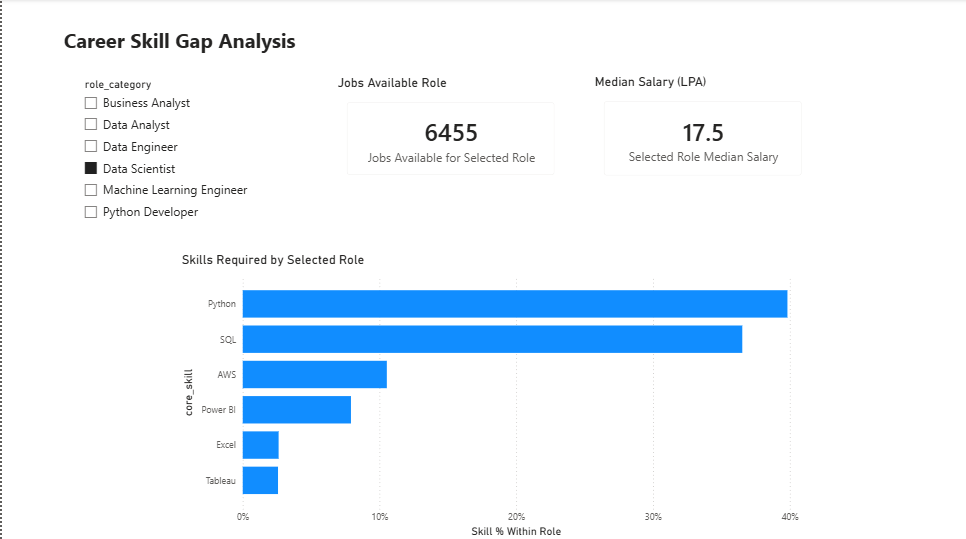

What the dashboard file says about the page in this screenshot:
{"tool":"powerbi","page":{"name":"Career skill Gap","canvas":[1280,720],"ordinal":3},"visuals":[{"type":"slicer","fields":{"Values":["role_skill_analysis.role_category"]},"box":[96.6,99.5,314.6,216.6],"z":0},{"type":"clusteredBarChart","title":"Skills Required by Selected Role","fields":{"Category":["role_skill_analysis.core_skill"],"Y":["role_skill_analysis.Skill % Within Role"]},"box":[234.1,336.6,829.8,383.4],"z":1000},{"type":"cardVisual","title":"Jobs Available Role","fields":{"Data":["role_skill_analysis.Jobs Available for Selected Role"]},"box":[440.5,101,310.2,150.7],"z":2000},{"type":"cardVisual","title":"Median Salary (LPA)","fields":{"Data":["jobs_clean.Selected Role Median Salary"]},"box":[782.9,99.5,297.1,152.2],"z":3000},{"type":"textbox","box":[77.6,30.7,333.7,51.2],"z":4000}]}

Visuals, with their boxes in screenshot pixels (x1, y1, x2, y2), scaled from the page's 1280x720 canvas onto the 966x539 screenshot:
slicer - role_skill_analysis.role_category: 73,74,310,237
"Skills Required by Selected Role" clusteredBarChart: 177,252,803,538
"Jobs Available Role" cardVisual: 332,76,567,188
"Median Salary (LPA)" cardVisual: 591,74,815,188
textbox: 59,23,310,61
